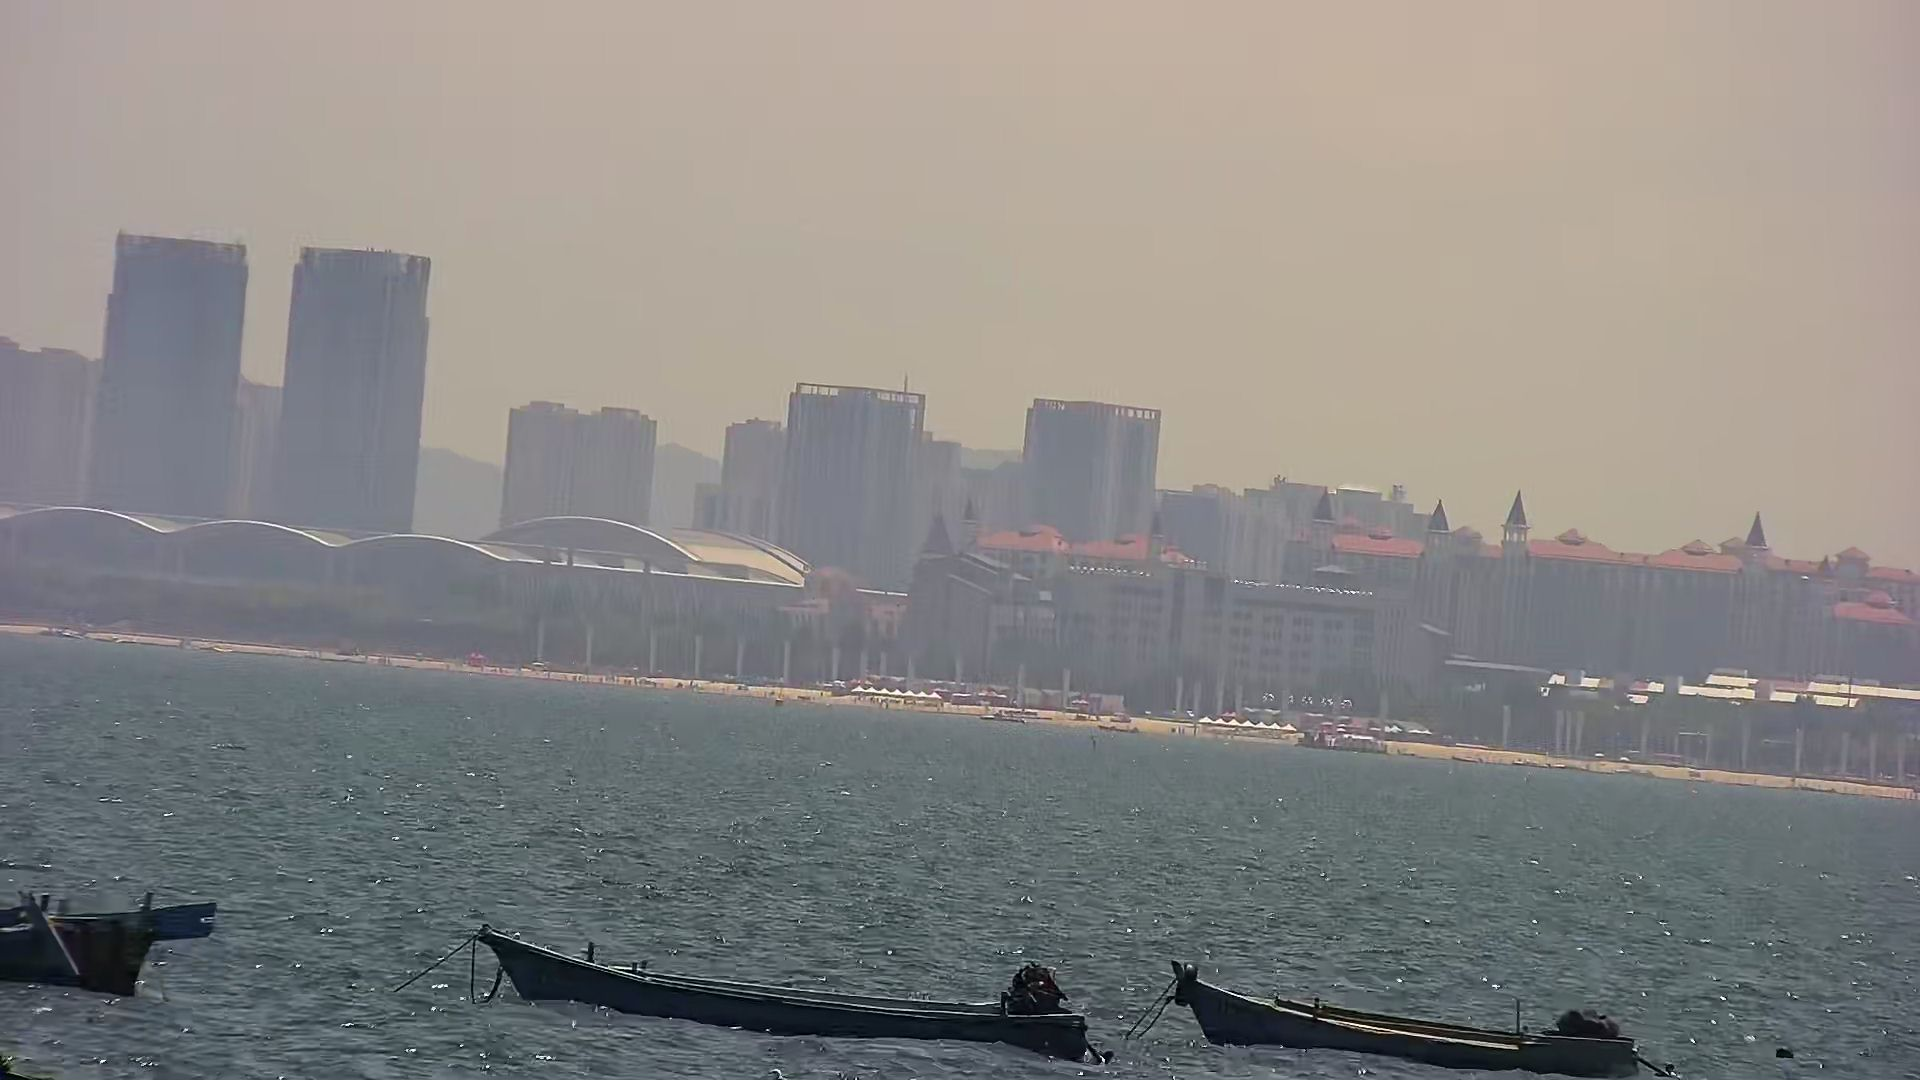ball: (1770, 1034, 1813, 1063)
boat: (440, 902, 1129, 1080), (1164, 935, 1695, 1080), (1, 876, 228, 1000)
